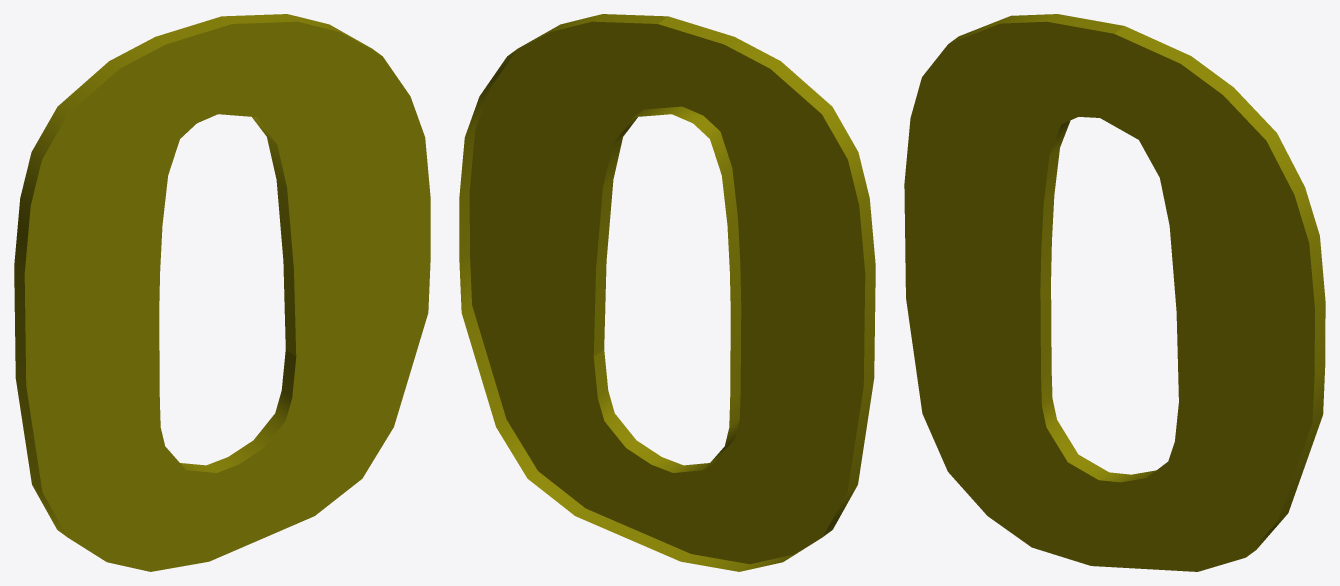
Rendered from Number_0.fbx.
3 views of the same model, side by side, from view 1: azimuth 30°, elevation 25°; view 2: azimuth 150°, elevation 25°; view 3: azimuth 330°, elevation 25° (orthographic).
Visible parts, largest first — view 1: Number_0; view 2: Number_0; view 3: Number_0.
Boxes of the visible parts, x1=… form: Number_0: x1=14, y1=14, x2=430, y2=571; Number_0: x1=459, y1=14, x2=875, y2=571; Number_0: x1=904, y1=14, x2=1325, y2=571.
Size of the model in its own units: 0.5022 by 0.6288 by 0.0225.
